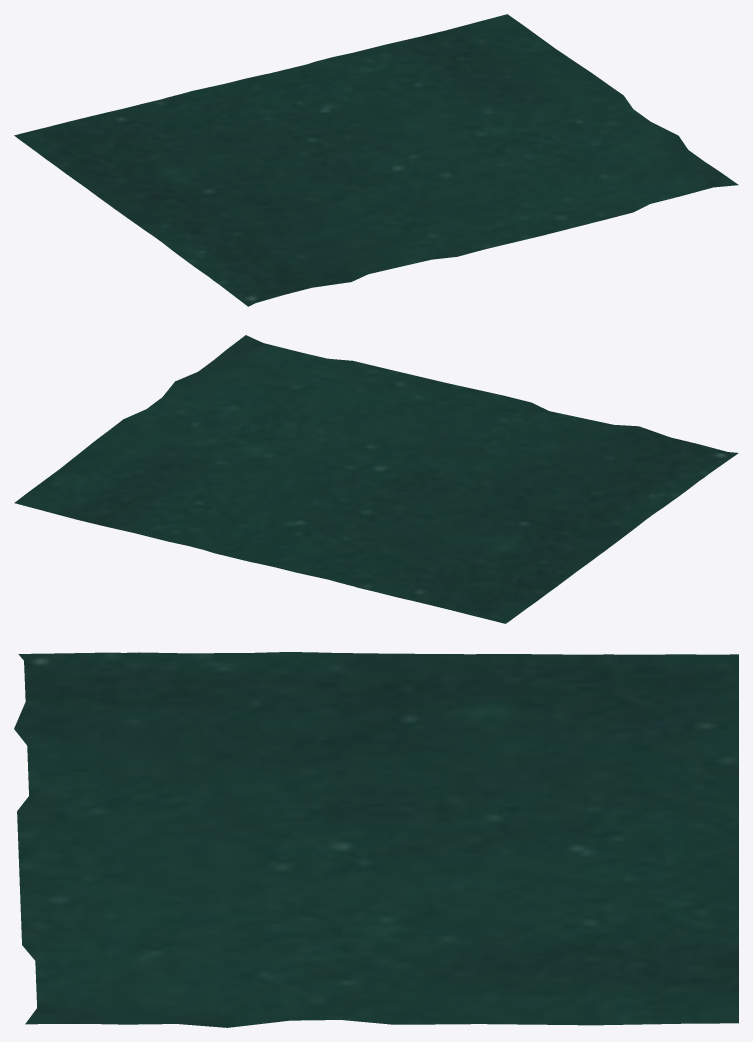
3 views of the same model, one above another, from view 1: azimuth 30°, elevation 25°; view 2: azimuth 150°, elevation 25°; view 3: azimuth 270°, elevation 25° (orthographic). The views are drawn at different scales.
Bounding box in the file's own units: 70.07 × 0.441 × 57.43.
Materials: 1 (1 with a texture image).
